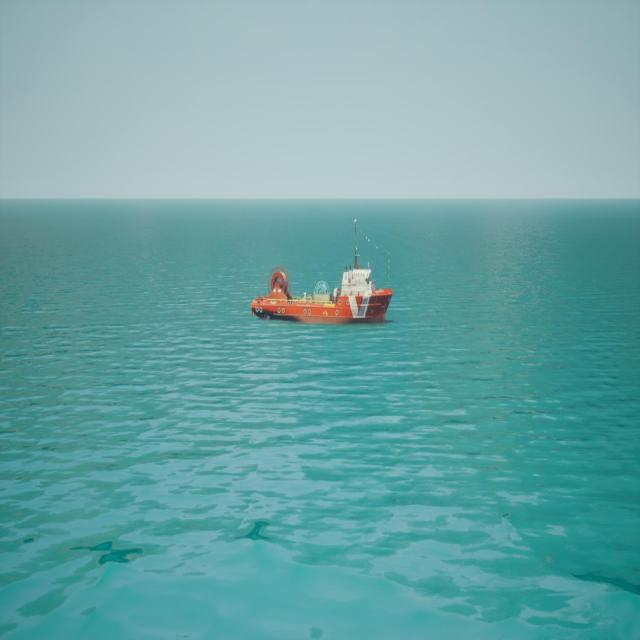tug boat: (253, 221, 396, 327)
